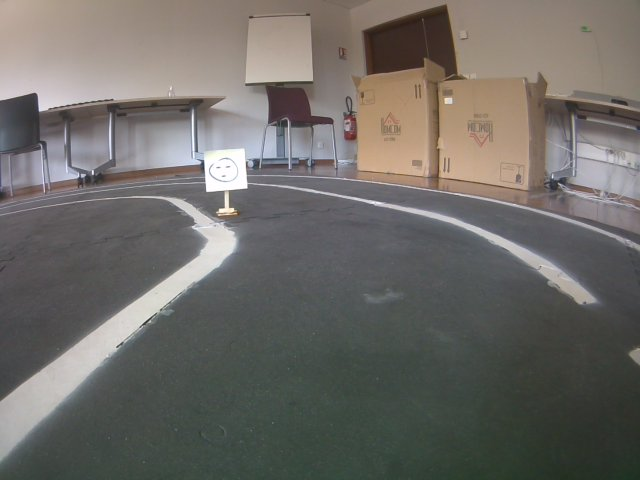Smiley: (199, 147, 248, 194)
